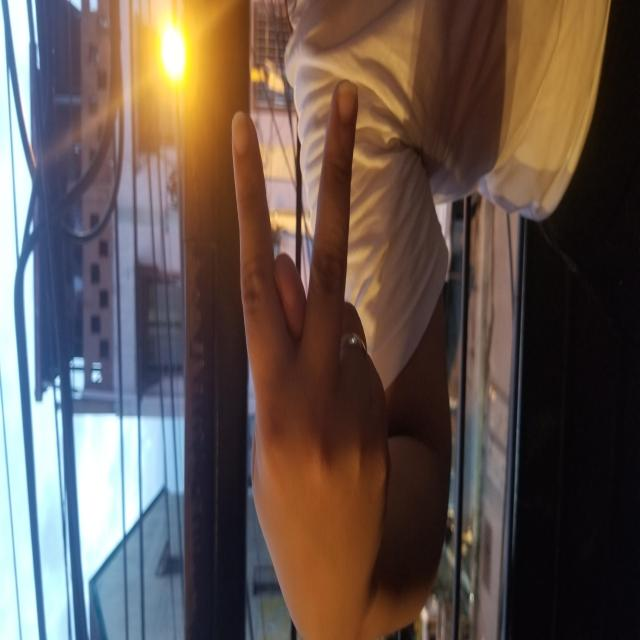K: (0, 227, 569, 392)
